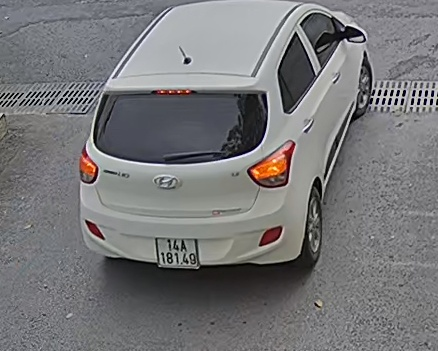vehicle plate: (153, 233, 197, 271)
